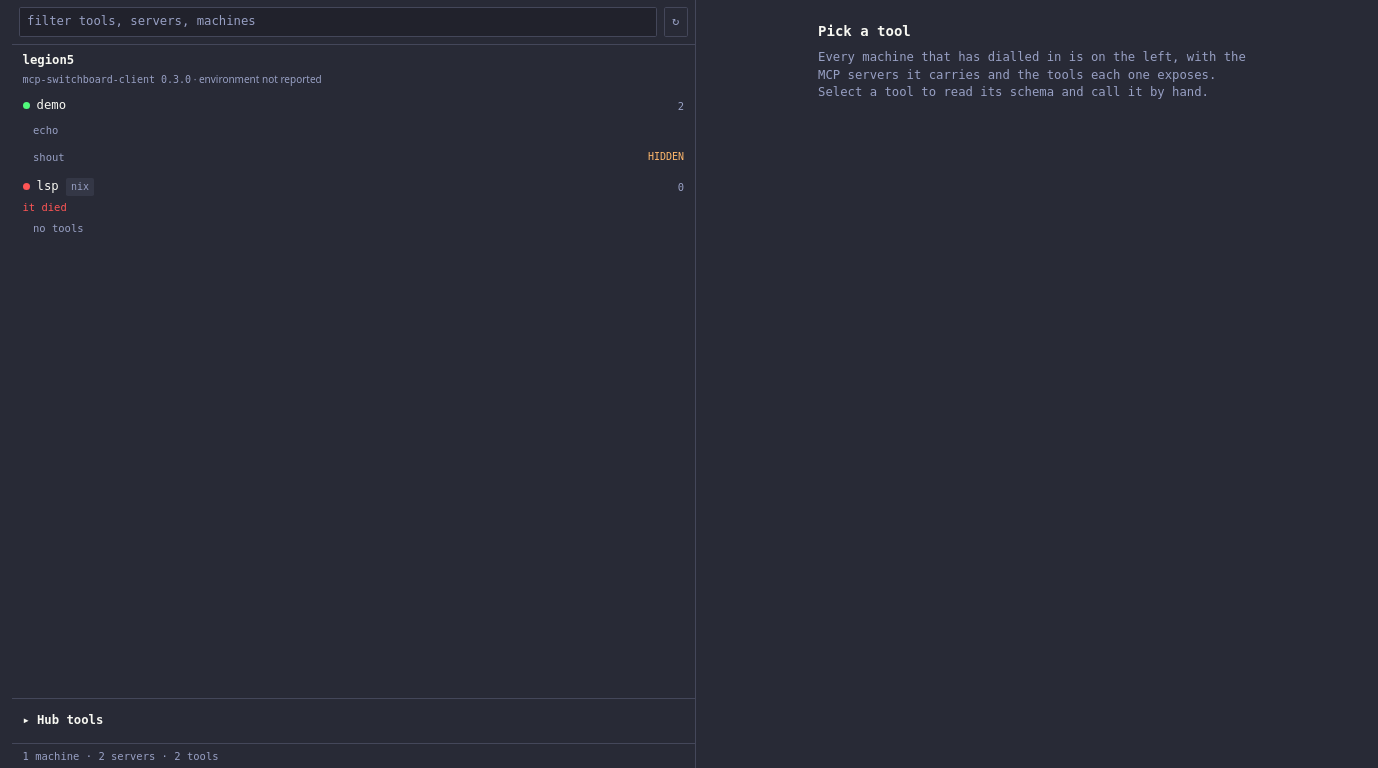
it: Connections › locks a schemaless tool into JSON mode
Click the text "shout": (49, 156) [33,150,65,164]
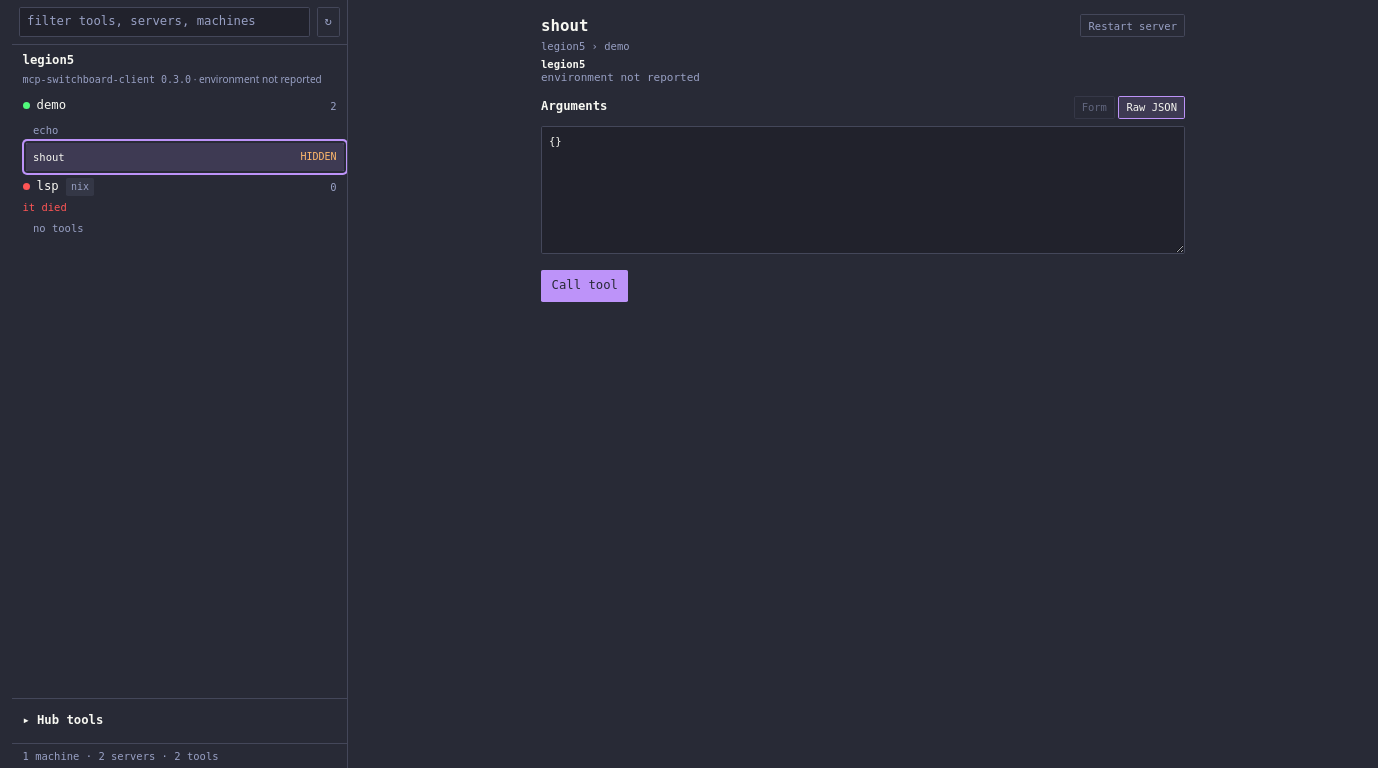
Check: the text box named "Arguments as JSON" is shown, box [541,126,1185,254]
Check: the button "Form" is disabled, box [1074,96,1115,118]
